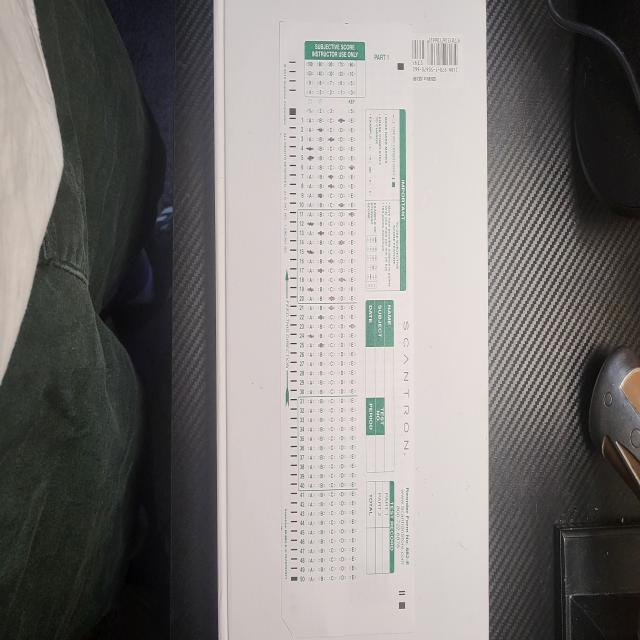scantron: (280, 23, 415, 639)
